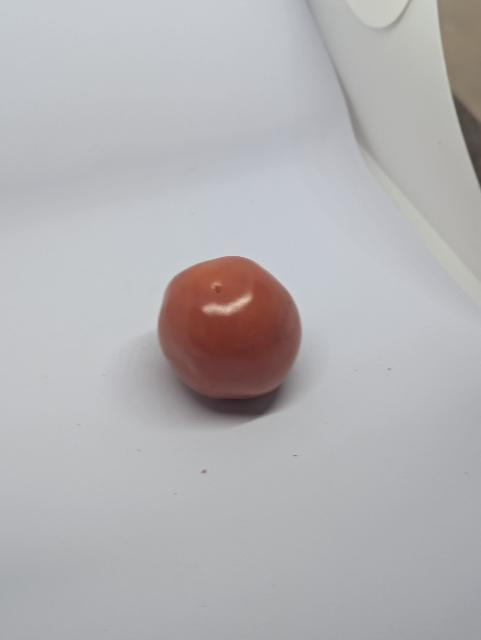red: (153, 251, 315, 414)
